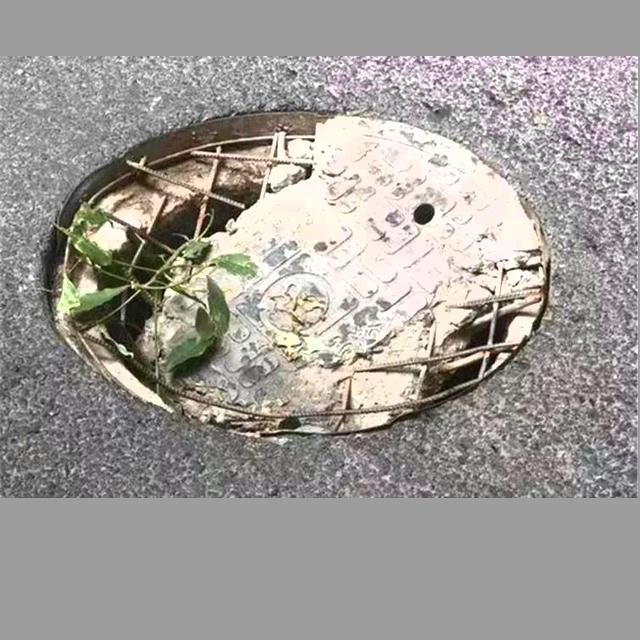broke: (33, 101, 557, 442)
